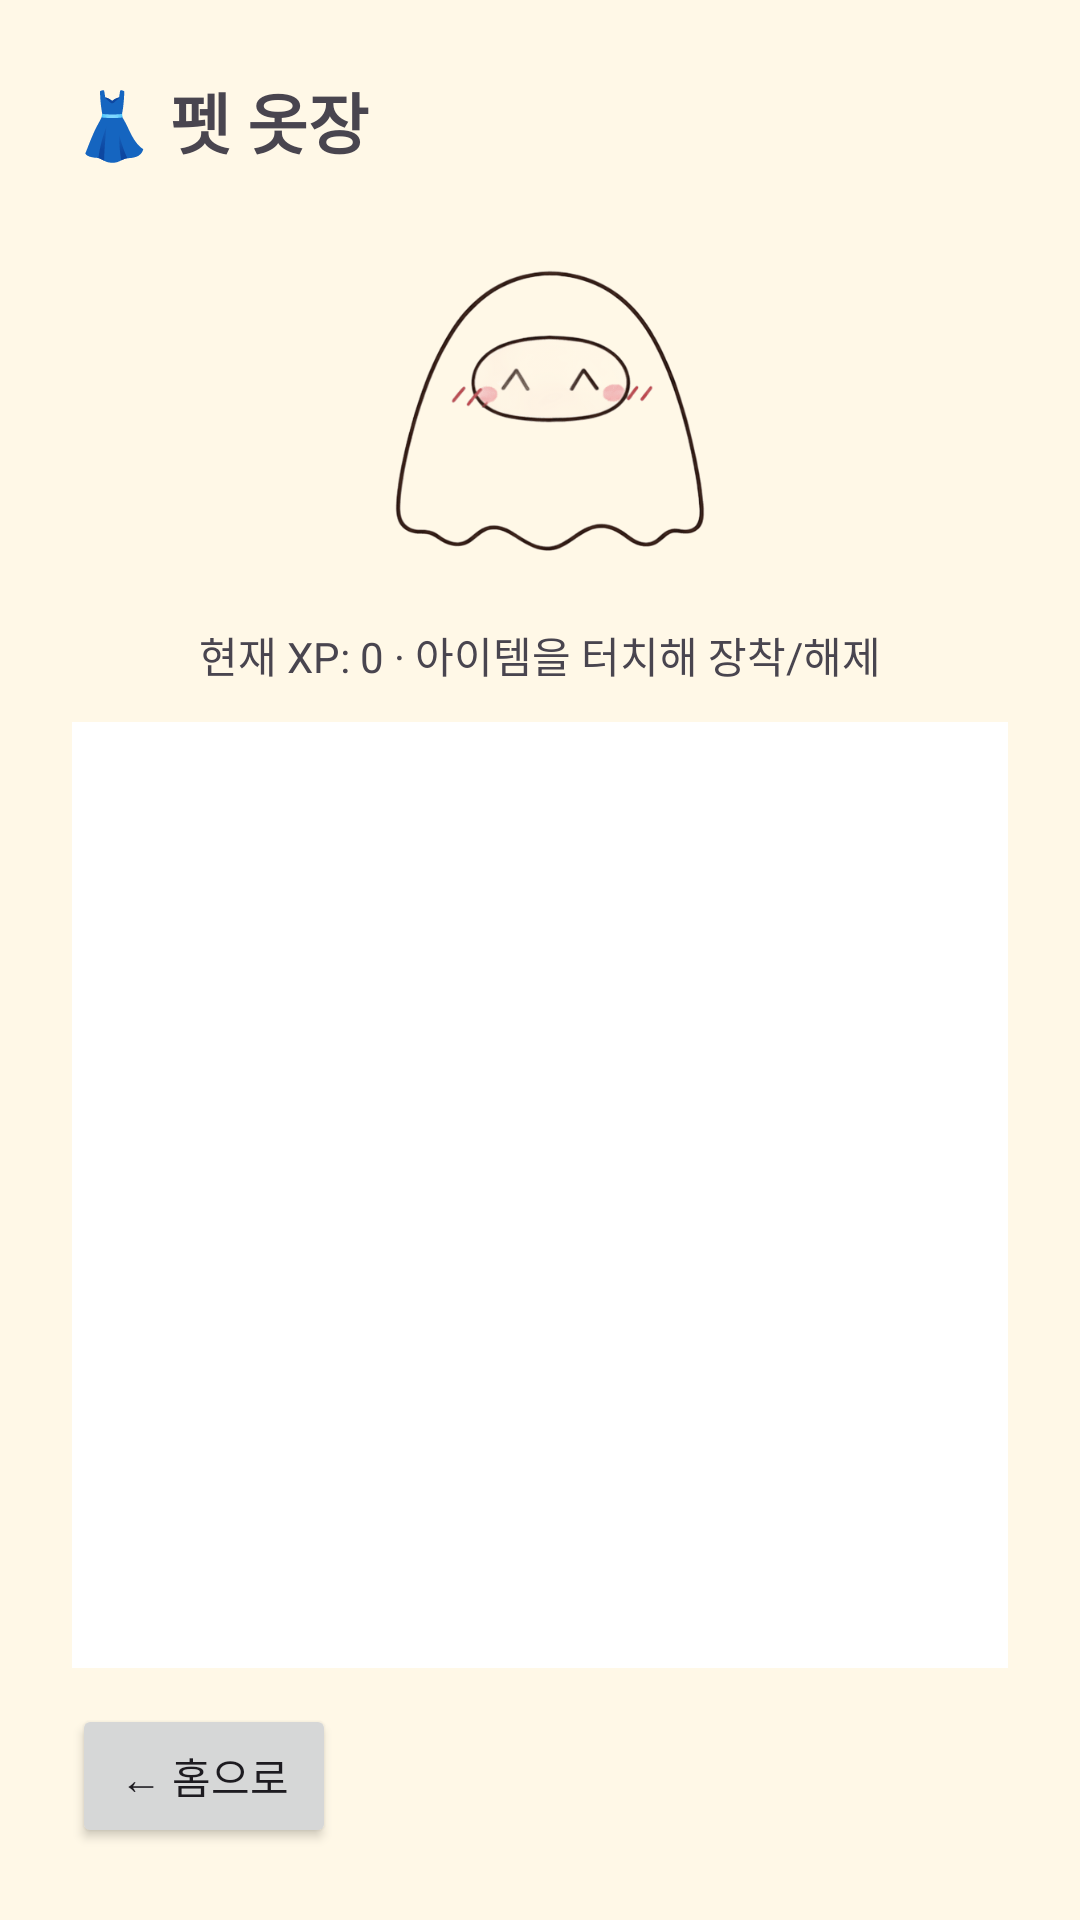

Where icons sit on this 1080 x 1920 app screen, as (x1, y1, x2, y2):
pet: (396, 271, 704, 551)
